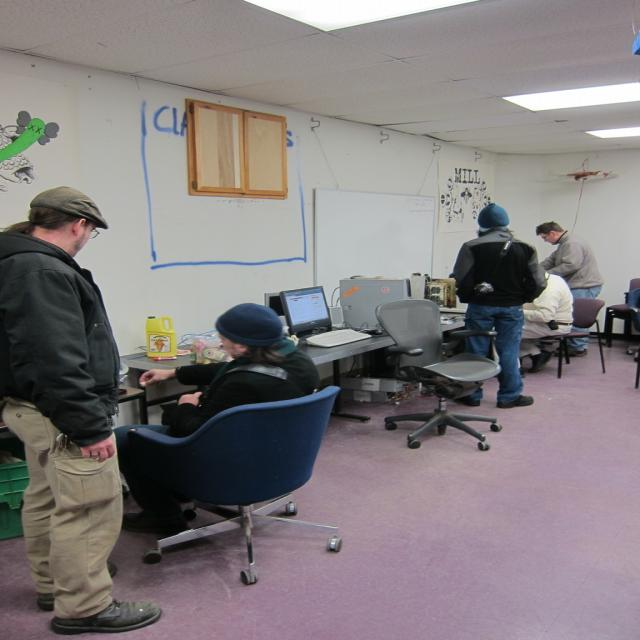chair: (128, 386, 342, 585), (376, 298, 502, 452), (534, 298, 608, 379), (602, 282, 640, 382)
desk: (125, 335, 397, 423)
keyboard: (306, 329, 372, 347)
person: (0, 190, 156, 632), (119, 302, 319, 528), (449, 202, 546, 412), (535, 220, 604, 300)
tv: (278, 286, 331, 332)
